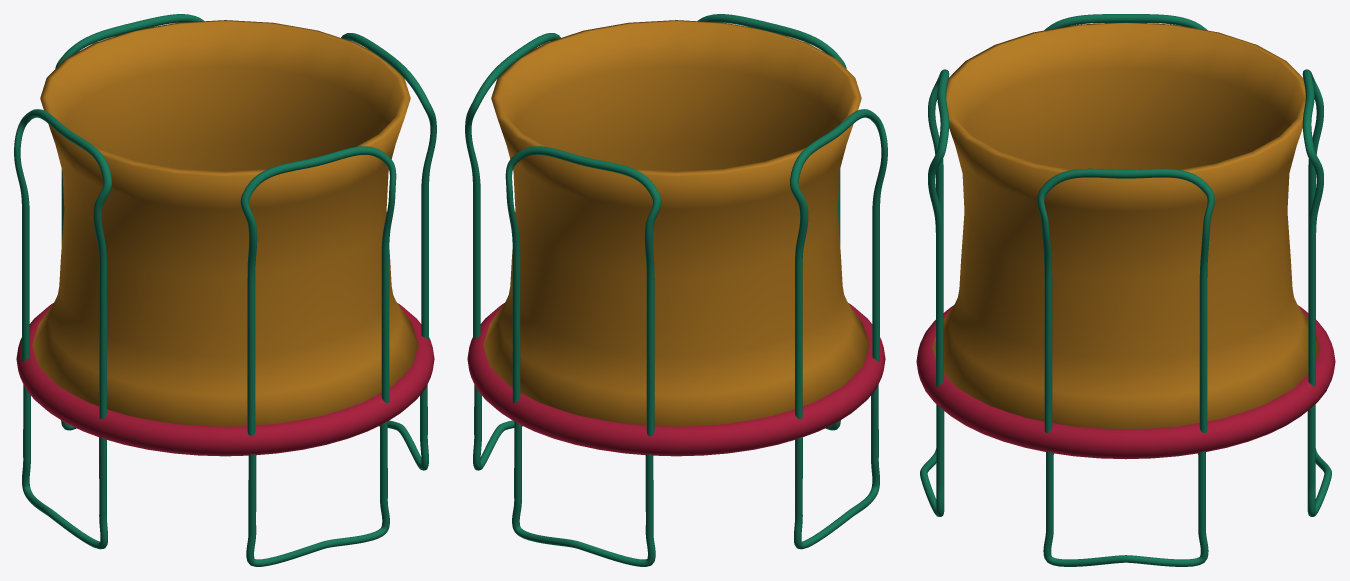
The model's file is FunSmall3Trampoline.fbx.
3 views of the same model, side by side, from view 1: azimuth 30°, elevation 25°; view 2: azimuth 150°, elevation 25°; view 3: azimuth 270°, elevation 25° (orthographic).
Visible parts, largest first — view 1: TrampolineS3; view 2: TrampolineS3; view 3: TrampolineS3.
Part boxes in pixels (x1,y1,x2,y2): TrampolineS3: [14, 14, 436, 566]; TrampolineS3: [465, 14, 887, 566]; TrampolineS3: [916, 14, 1335, 566].
Size of the model in its own units: 54 by 56.1 by 54.
